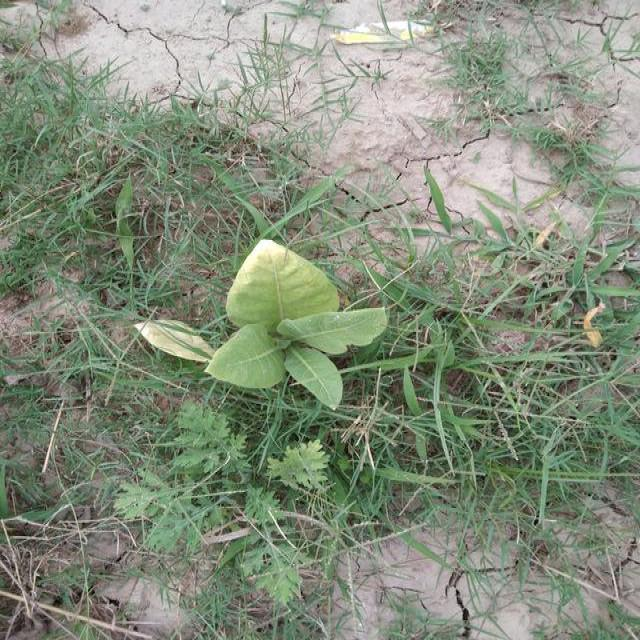crop: (136, 222, 400, 411)
